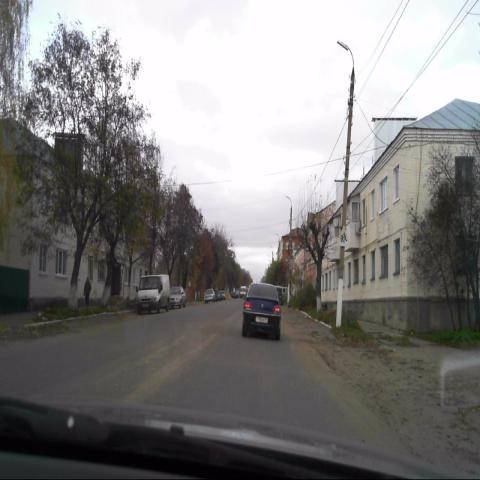1_23: (337, 225, 350, 249)
